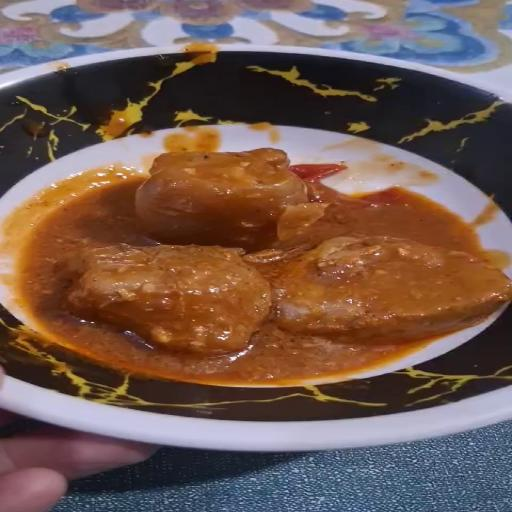pork caldereta: (42, 141, 512, 371)
